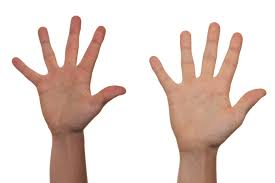palm: (147, 19, 269, 154), (11, 15, 128, 141)
